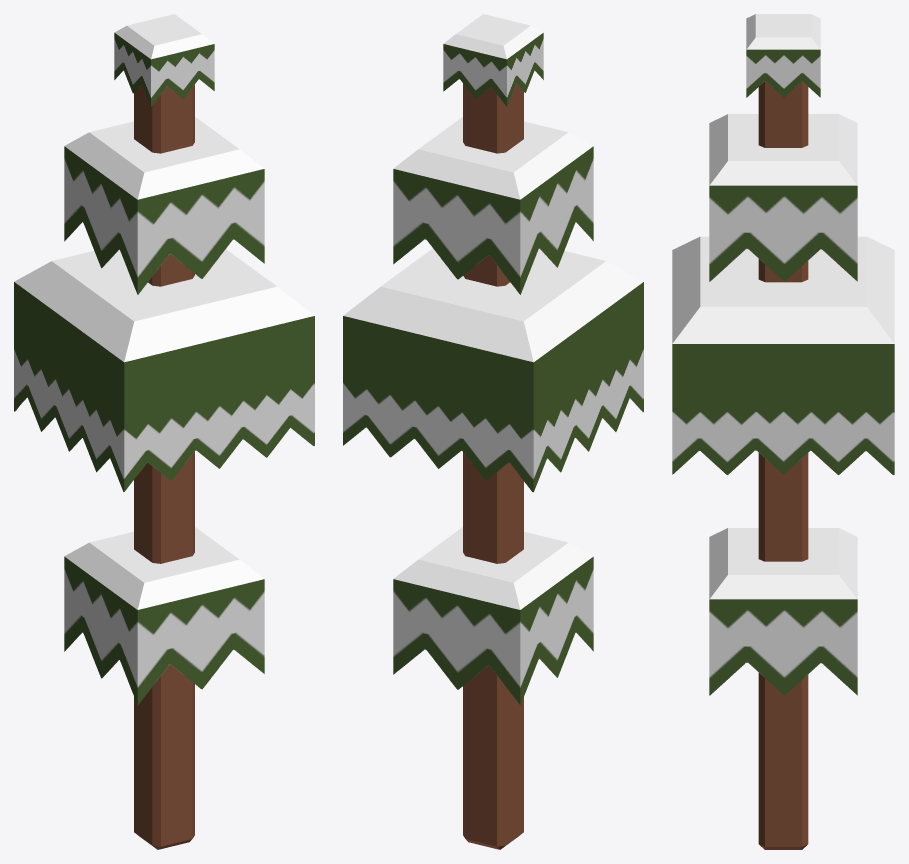
The model's file is Tree 3.fbx.
3 views of the same model, side by side, from view 1: azimuth 30°, elevation 25°; view 2: azimuth 150°, elevation 25°; view 3: azimuth 270°, elevation 25° (orthographic).
Parts seen in each view (by area): view 1: Tree_Crown_3, Tree_Crown_2, Tree_Crown_4, Trunk, Tree_Crown_1; view 2: Tree_Crown_3, Tree_Crown_2, Tree_Crown_4, Trunk, Tree_Crown_1; view 3: Tree_Crown_3, Tree_Crown_4, Tree_Crown_2, Trunk, Tree_Crown_1.
Part boxes in pixels (x1,y1,x2,y2): Tree_Crown_3: (14, 249, 314, 491); Tree_Crown_2: (64, 117, 264, 294); Tree_Crown_4: (64, 527, 264, 704); Trunk: (134, 84, 194, 849); Tree_Crown_1: (114, 14, 214, 106); Tree_Crown_3: (343, 248, 643, 492); Tree_Crown_2: (393, 117, 593, 294); Tree_Crown_4: (393, 527, 593, 705); Trunk: (463, 83, 523, 849); Tree_Crown_1: (443, 14, 543, 106); Tree_Crown_3: (672, 236, 894, 474); Tree_Crown_4: (709, 528, 857, 695); Tree_Crown_2: (709, 114, 857, 281); Trunk: (758, 81, 808, 849); Tree_Crown_1: (746, 14, 820, 97).
Bounding box in the file's own units: 0.9 × 3.65 × 0.9.
Materials: 1 (1 with a texture image).
